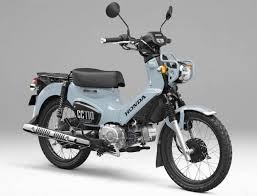motor: (17, 35, 240, 192)
